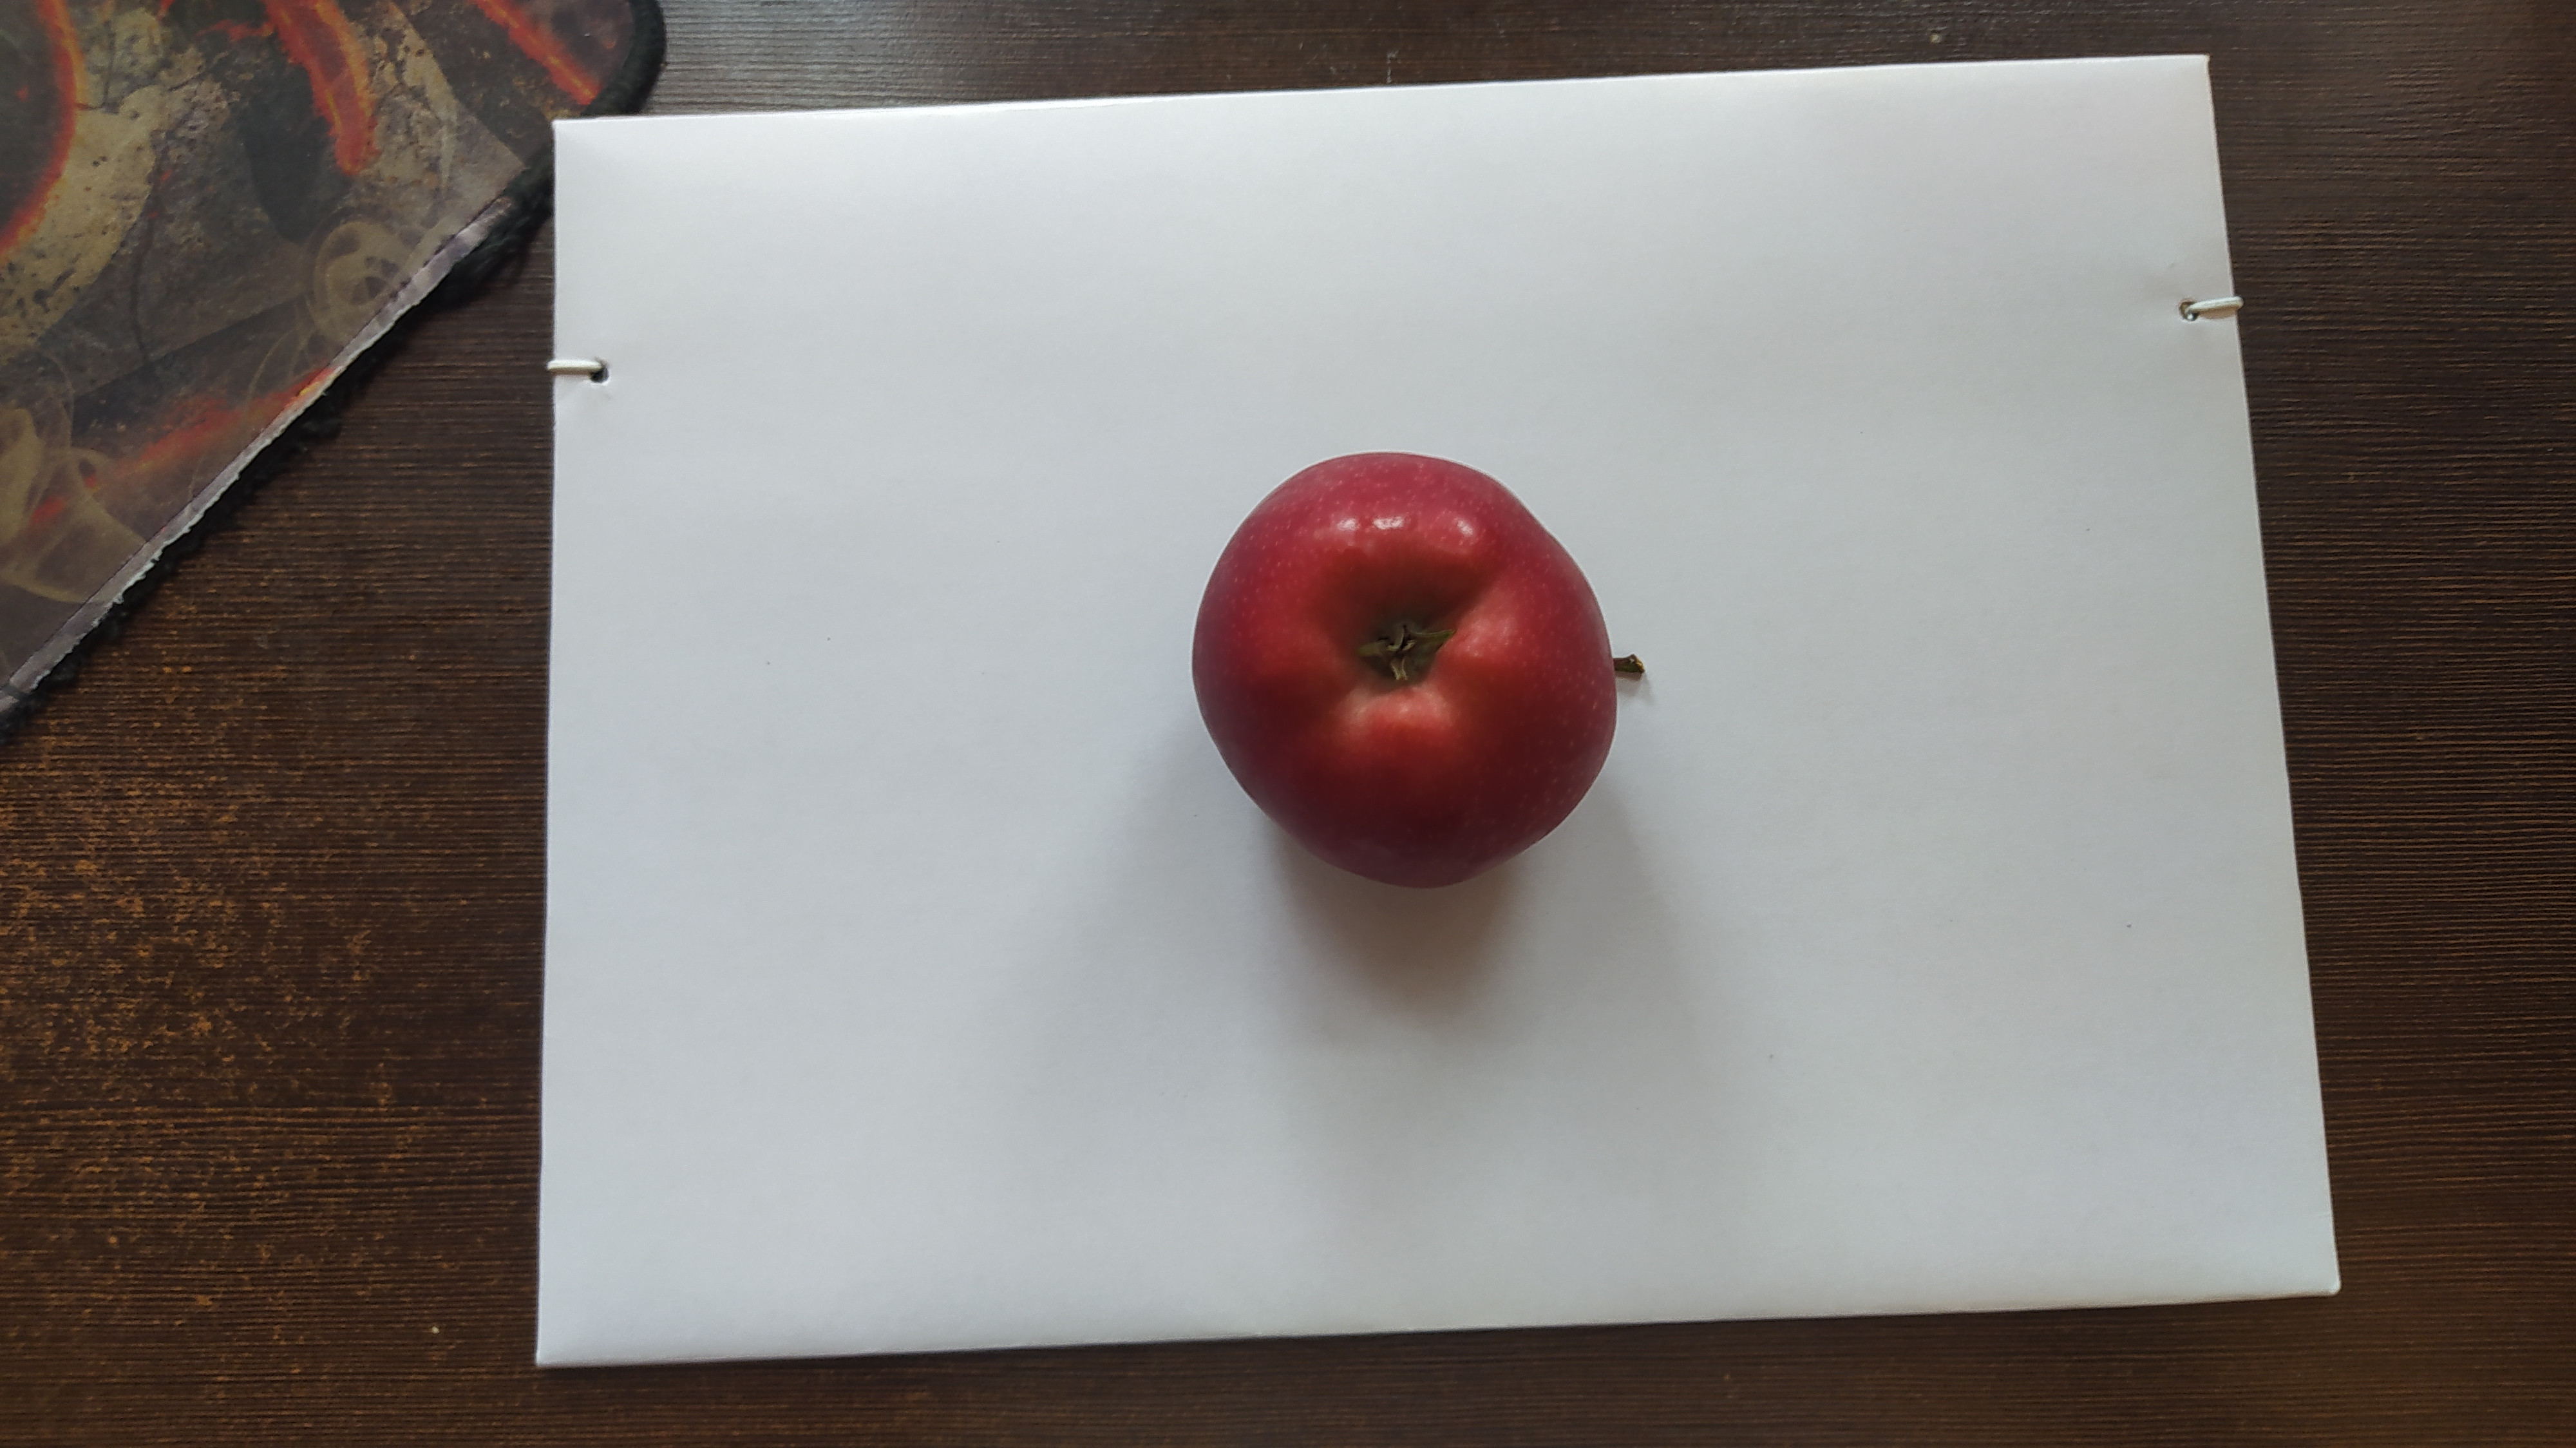apple: (1187, 453, 1624, 887)
